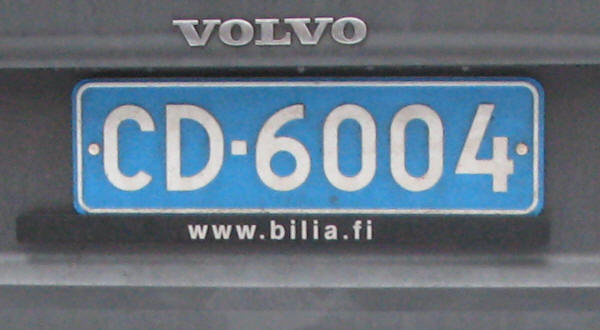license_plate: (72, 82, 542, 214)
